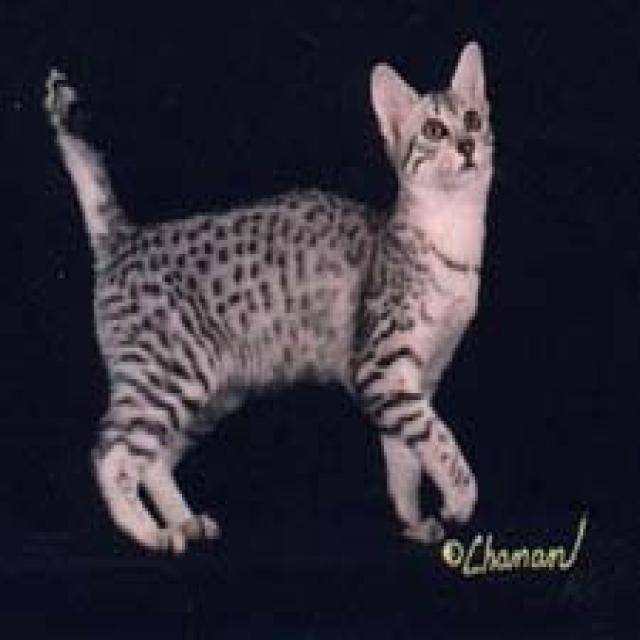Egyptian_Mau: (359, 23, 519, 209)
